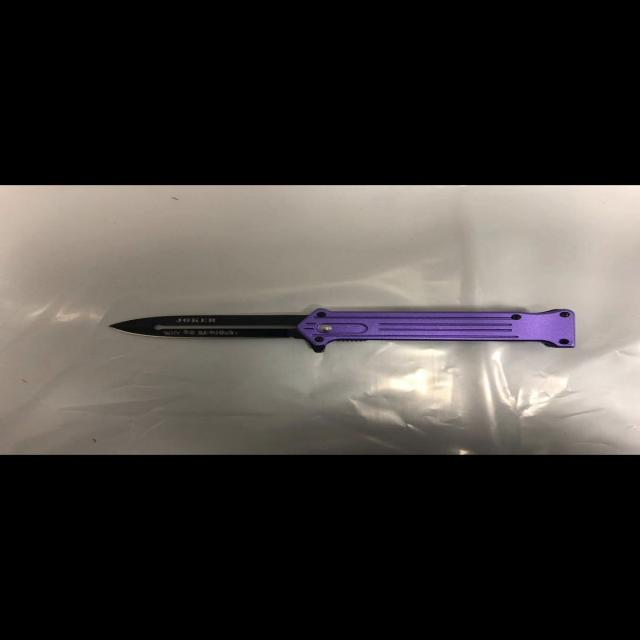Sharp-Object: (99, 308, 576, 356)
